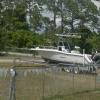Boat: (29, 33, 100, 73)
